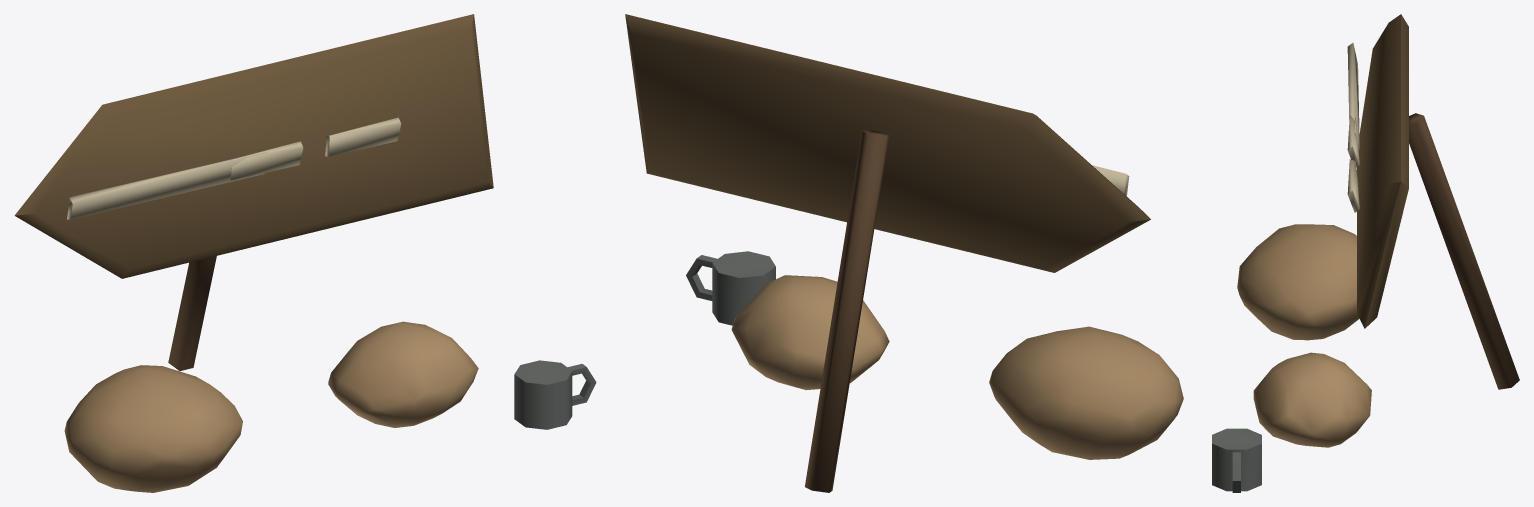
Rendered from crew_sign_b_lod1.glb.
3 renders of one model, left to right at view 1: azimuth 30°, elevation 25°; view 2: azimuth 150°, elevation 25°; view 3: azimuth 270°, elevation 25°, orthographic. The views are drawn at different scales.
Parts seen in each view (by area): view 1: Surface.001; view 2: Surface.001; view 3: Surface.001.
Part boxes in pixels (x1=…): Surface.001: x1=14, y1=14, x2=596, y2=492; Surface.001: x1=625, y1=14, x2=1183, y2=492; Surface.001: x1=1212, y1=14, x2=1519, y2=492.
Bounding box in the file's own units: 1.28 × 0.8375 × 0.7382.
